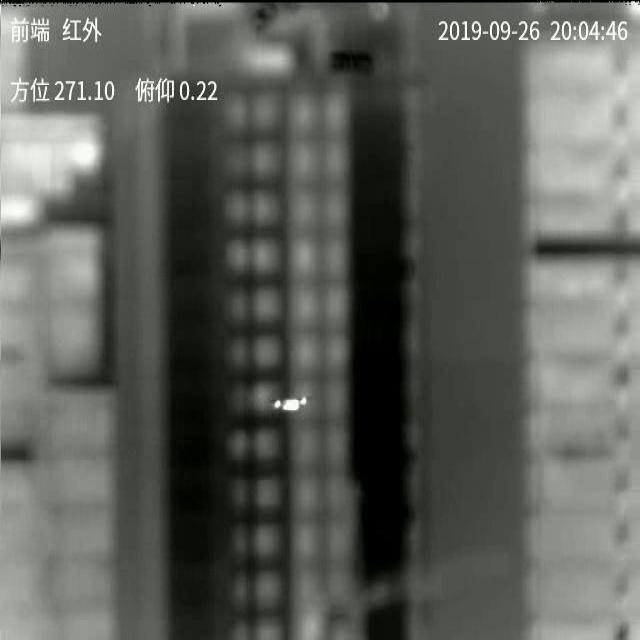drone: (269, 397, 308, 412)
